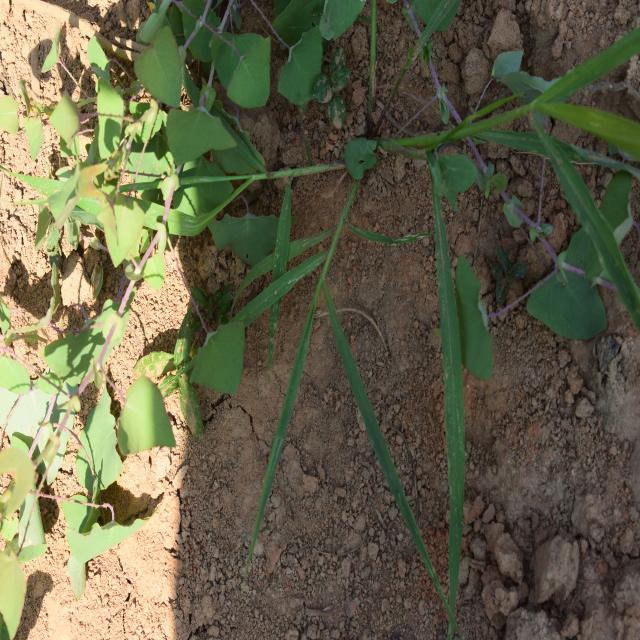green_foxtail: (231, 169, 412, 524), (487, 8, 635, 272)
